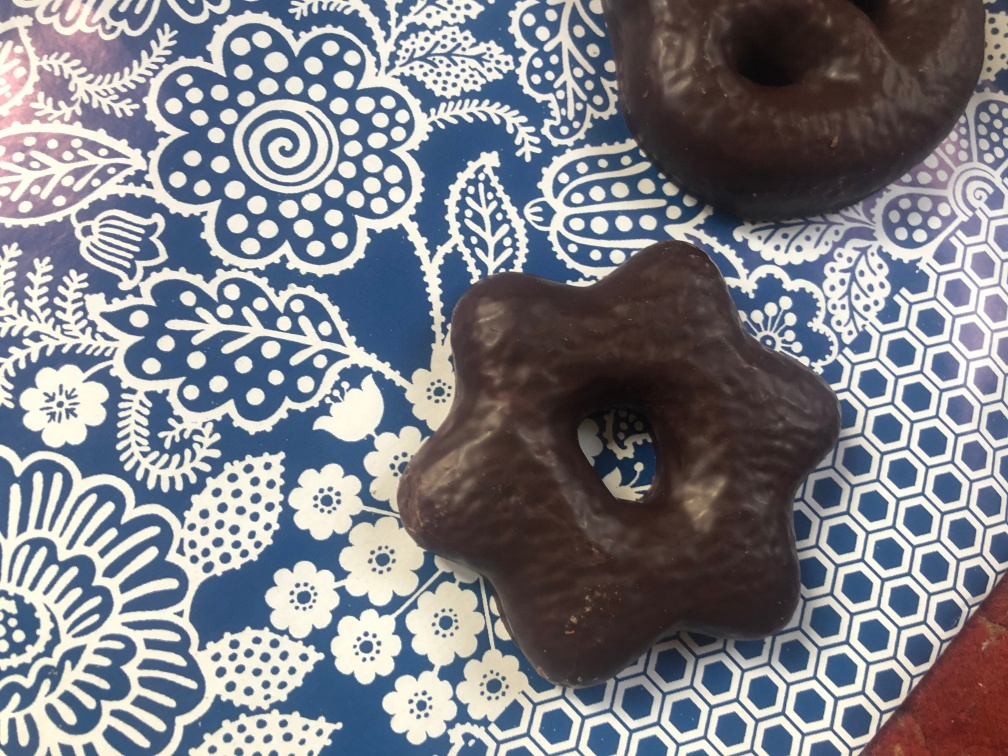bretzel: (602, 1, 984, 212)
star: (391, 236, 846, 700)
